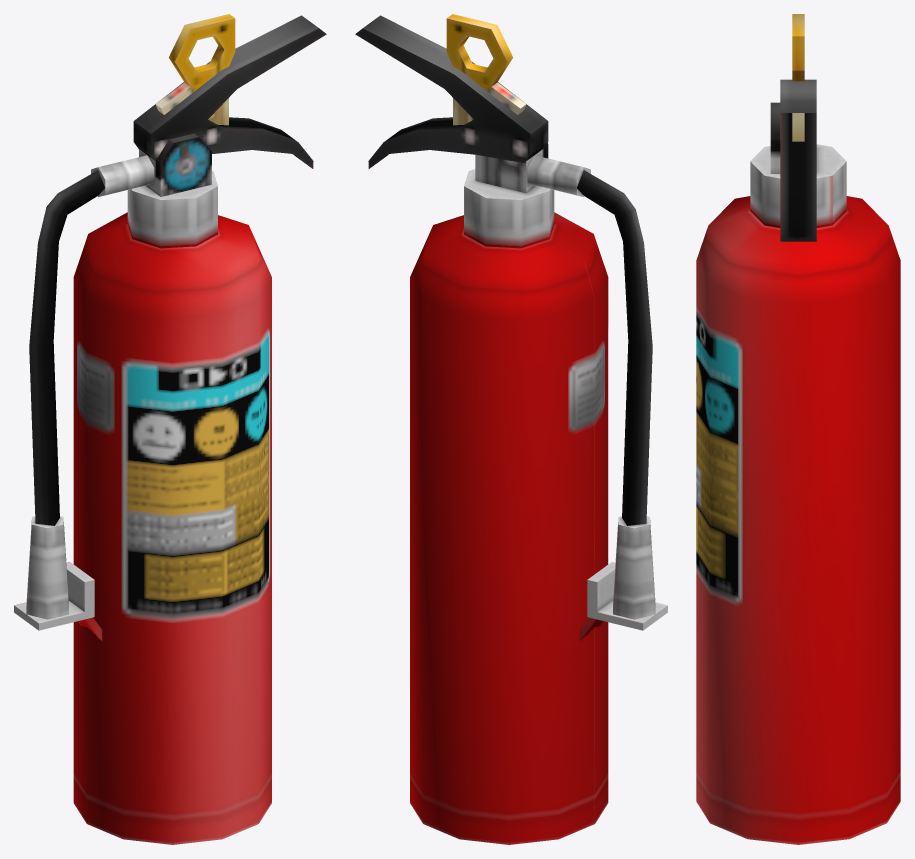
Rendered from jsf_FireExtinguisher.fbx.
The picture shows the model from 3 angles, left to right: view 1: azimuth 30°, elevation 25°; view 2: azimuth 150°, elevation 25°; view 3: azimuth 270°, elevation 25°; orthographic projection. The views are drawn at different scales.
Visible parts, largest first — view 1: jsf_FireExtinguisher; view 2: jsf_FireExtinguisher; view 3: jsf_FireExtinguisher.
Boxes of the visible parts, box(x1,y1,x2,y2) form: jsf_FireExtinguisher: box(14, 14, 326, 844); jsf_FireExtinguisher: box(355, 14, 667, 844); jsf_FireExtinguisher: box(696, 14, 900, 844).
Size of the model in its own units: 18.18 by 46 by 10.71.
